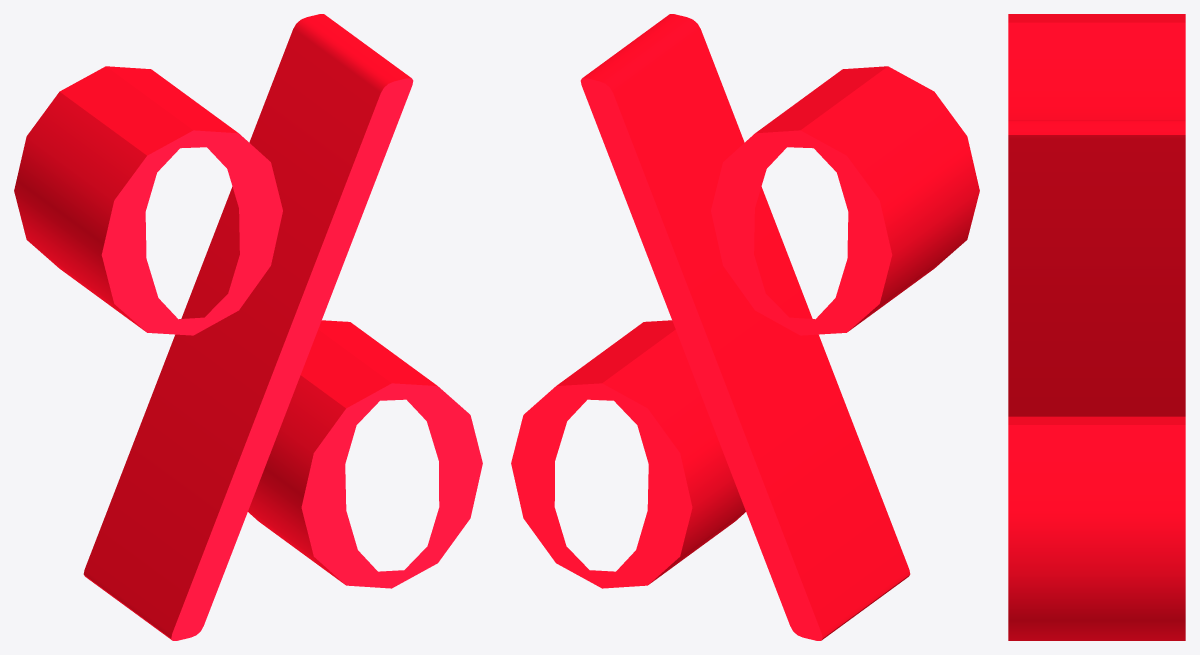
The model's file is fc96a0a9-a96f-488e-8f9d-bd99cbdcafeb.glb.
3 renders of one model, left to right at view 1: azimuth 30°, elevation 25°; view 2: azimuth 150°, elevation 25°; view 3: azimuth 270°, elevation 25°, orthographic.
Visible parts, largest first — view 1: %_Soul_Red; view 2: %_Soul_Red; view 3: %_Soul_Red.
Boxes of the visible parts, x1,y1,x2,y2 form: %_Soul_Red: (14, 14, 482, 640); %_Soul_Red: (511, 14, 979, 640); %_Soul_Red: (1008, 14, 1185, 640).
Size of what is drawn, in the model's own units: 0.113 by 0.1435 by 0.045.
2 materials, 2 textured.
